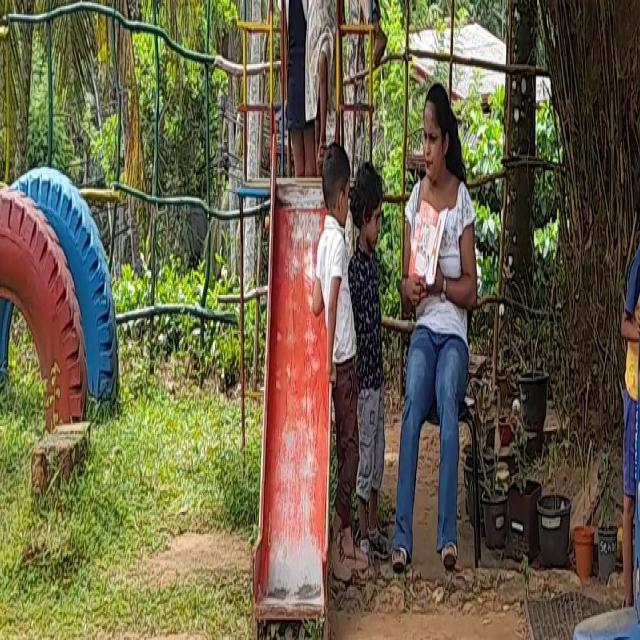adult: (400, 38, 476, 597)
child: (308, 145, 355, 584), (355, 167, 388, 553), (300, 0, 330, 155)
